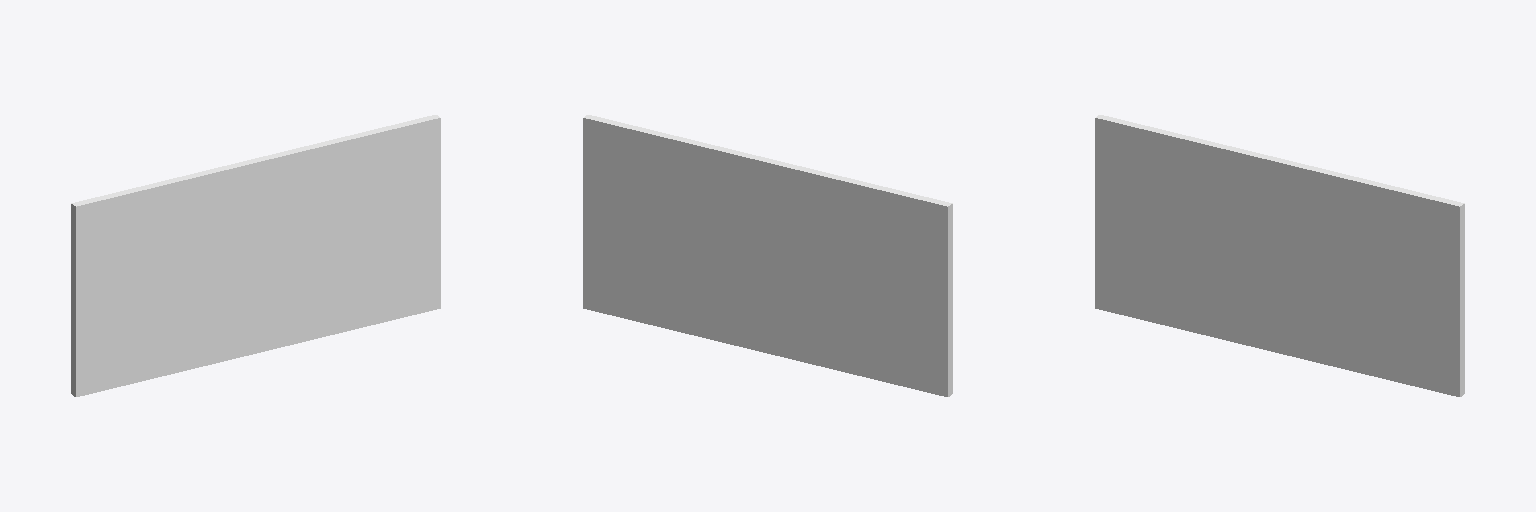
Rendered from Cell_Wall.obj.
3 renders of one model, left to right at view 1: azimuth 30°, elevation 25°; view 2: azimuth 150°, elevation 25°; view 3: azimuth 330°, elevation 25°, orthographic.
Bounding box in the file's own units: 46 × 23 × 1.